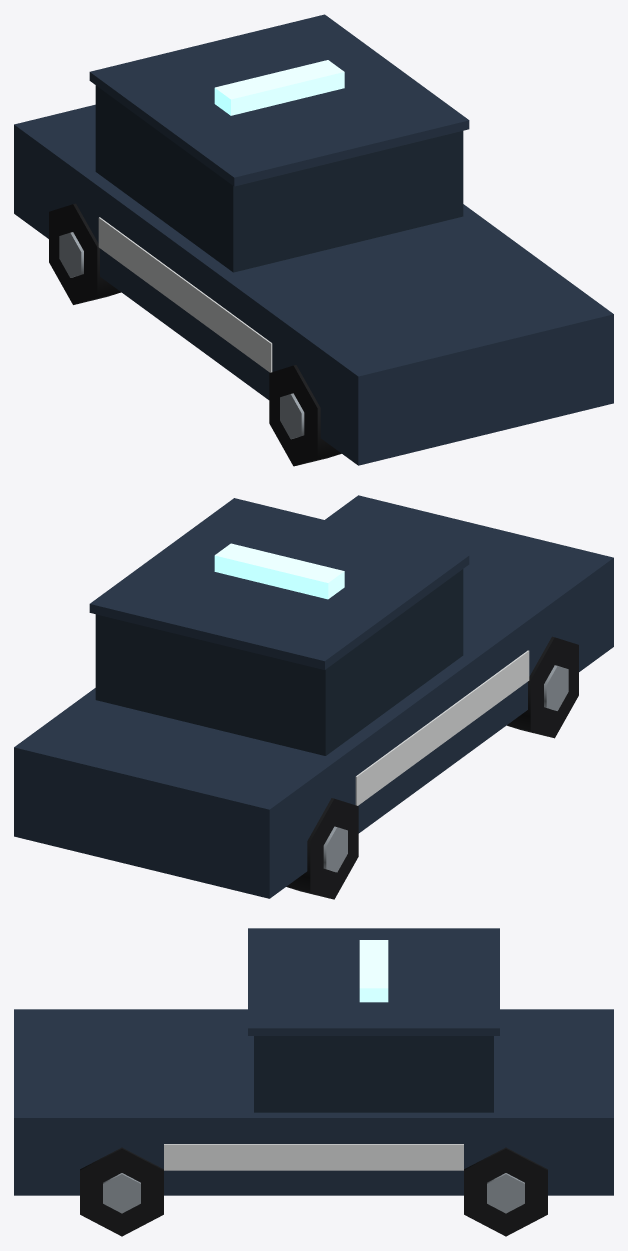
The model's file is veh_ground_police_car_a06_lod1.glb.
The picture shows the model from 3 angles, top to bottom: view 1: azimuth 30°, elevation 25°; view 2: azimuth 150°, elevation 25°; view 3: azimuth 270°, elevation 25°; orthographic projection. The views are drawn at different scales.
Parts seen in each view (by area): view 1: body, wheel_2, wheel_0; view 2: body, wheel_0, wheel_2; view 3: body, wheel_1, wheel_3.
Boxes of the visible parts, <box> form: body: <box>14,14,613,465</box>; wheel_2: <box>269,365,341,466</box>; wheel_0: <box>49,203,121,304</box>; body: <box>14,495,613,898</box>; wheel_0: <box>286,798,358,899</box>; wheel_2: <box>507,636,578,738</box>; body: <box>14,928,613,1195</box>; wheel_1: <box>464,1147,547,1236</box>; wheel_3: <box>80,1147,163,1236</box>.
Size of the model in its own units: 1.88 by 1.68 by 4.2.
